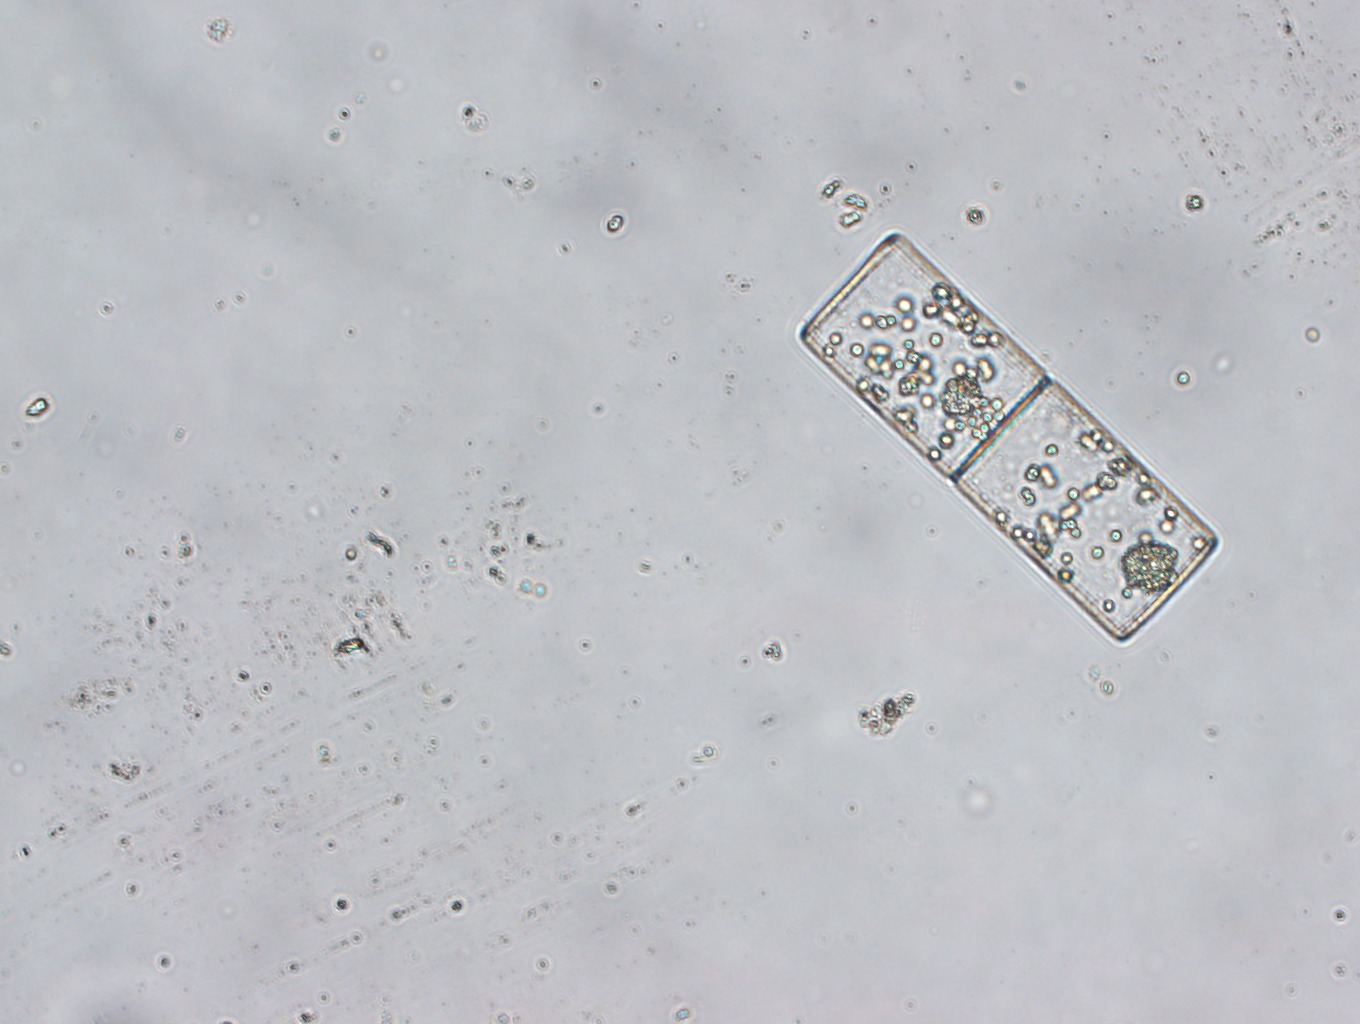guinardia flaccida: (794, 231, 1222, 648)
